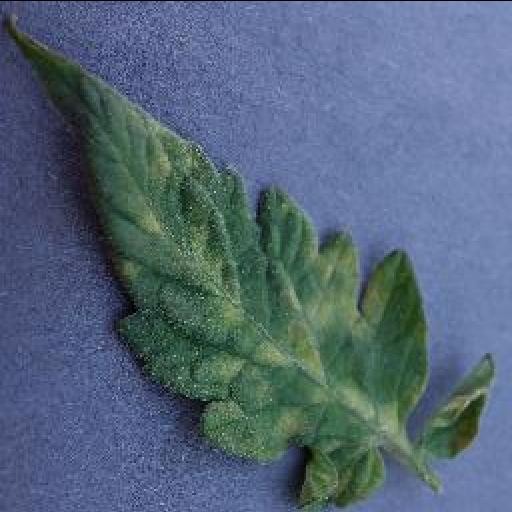disease_tomato: (2, 14, 432, 512)
